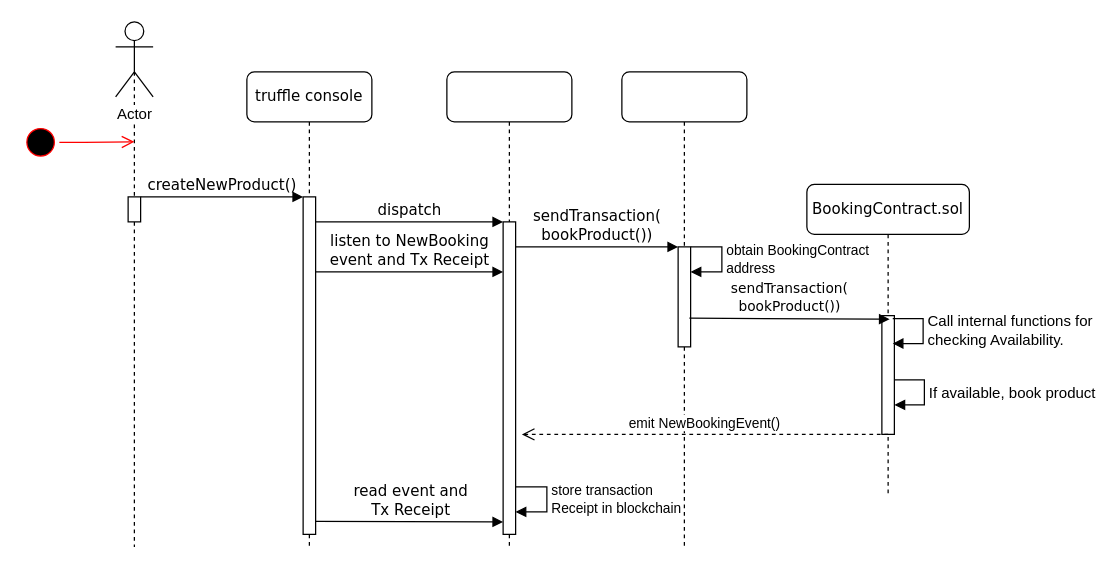
This 1118x569 diagram has some shape labels left out. Here are the shapes that lost their labels. From the top down, the box of each, then its label:
(446, 71, 572, 547): ganache-cli
(621, 71, 747, 547): Kibiwoo.sol
